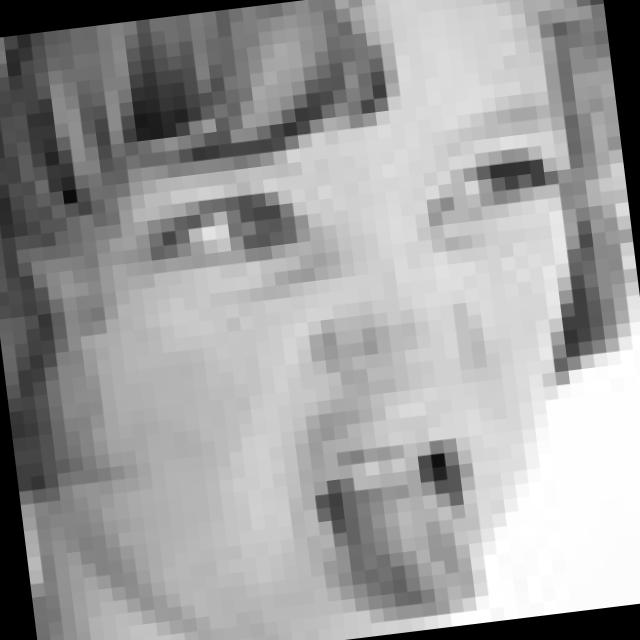disgust: (107, 95, 614, 640)
